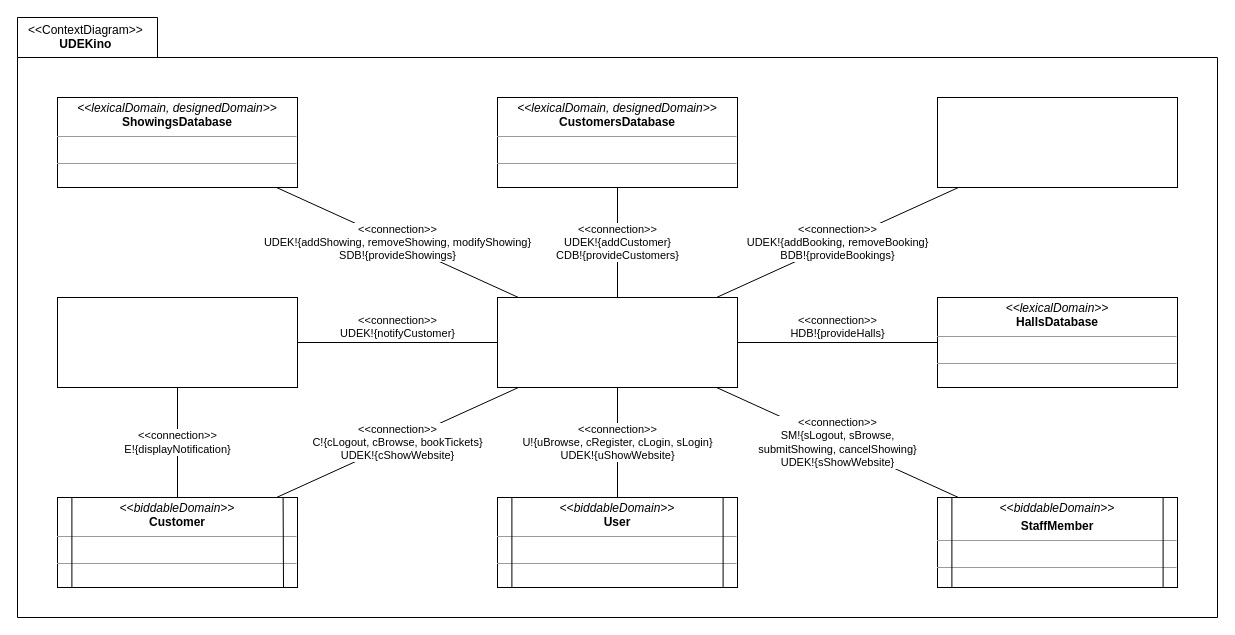
This 1235x635 diagram has some shape labels left out. Each missing label, with the centre of its shape:
<<causalDomain, connectionDomain>> Email: (177,342)
<<lexicalDomain, designedDomain>> BookingsDatabase: (1057,142)
<<machine>> UDEKino: (617,342)
